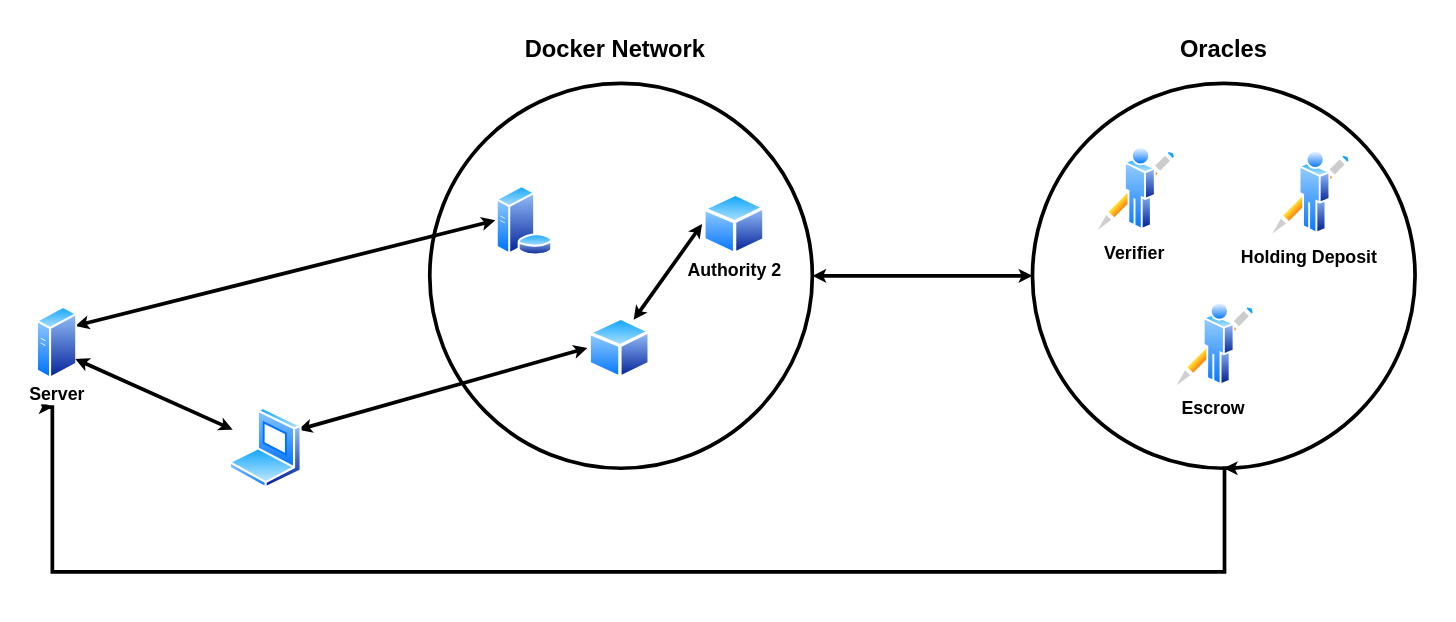
Image size: 1456x622. Some labels were removed from this diagram. The box of each missing label's shape, as (x1, y1, x2, y2) in pixels:
Authority 1: (587, 316, 651, 379)
Client: (229, 407, 302, 488)
Database Server: (495, 185, 553, 255)
